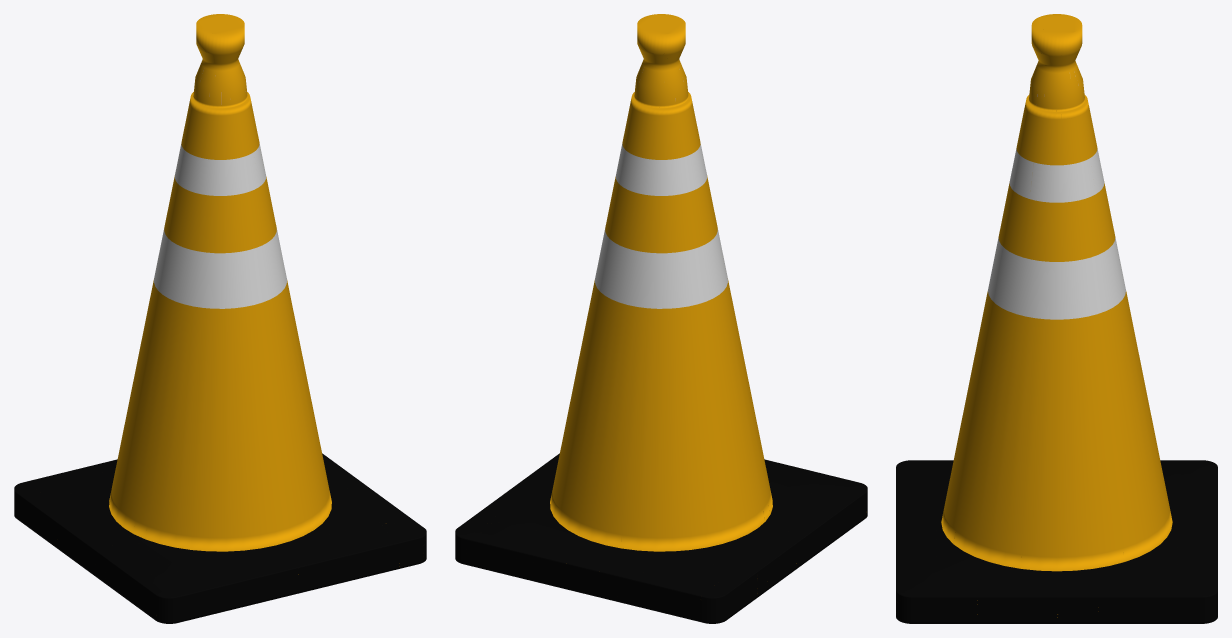
File: trafficcone.fbx
3 renders of one model, left to right at view 1: azimuth 30°, elevation 25°; view 2: azimuth 150°, elevation 25°; view 3: azimuth 270°, elevation 25°, orthographic. The views are drawn at different scales.
Parts seen in each view (by area): view 1: Cube.025; view 2: Cube.025; view 3: Cube.025.
Part boxes in pixels (left/top/right/bottom): Cube.025: left=14, top=14, right=426, bottom=623; Cube.025: left=455, top=14, right=867, bottom=623; Cube.025: left=896, top=14, right=1217, bottom=623.
Bounding box in the file's own units: 12.86 × 23.42 × 12.86.
1 material, 1 textured.
